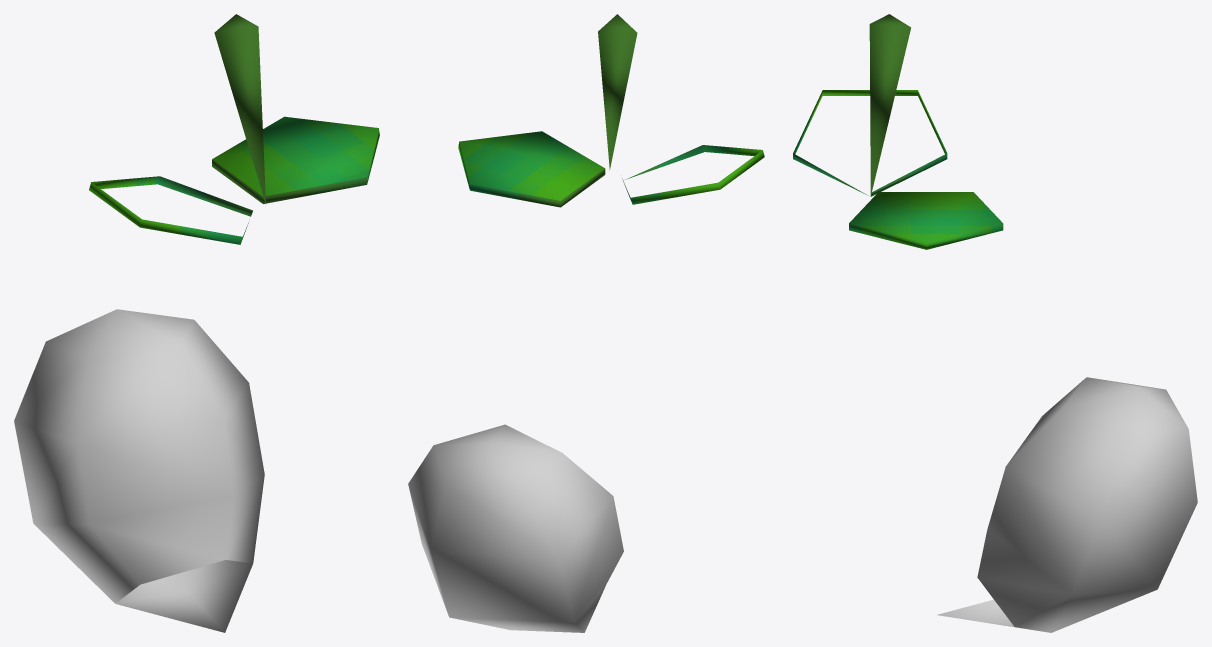
Rendered from fruit3.comp.obj.
3 renders of one model, left to right at view 1: azimuth 30°, elevation 25°; view 2: azimuth 150°, elevation 25°; view 3: azimuth 270°, elevation 25°, orthographic. The views are drawn at different scales.
Visible parts, largest first — view 1: fruit3.obj, fruit-stem.obj; view 2: fruit3.obj, fruit-stem.obj; view 3: fruit3.obj, fruit-stem.obj.
Part boxes in pixels (x1,y1,x2,y2): fruit3.obj: (14, 309, 264, 632); fruit-stem.obj: (89, 14, 379, 244); fruit3.obj: (408, 424, 623, 632); fruit-stem.obj: (458, 14, 764, 207); fruit3.obj: (937, 377, 1197, 632); fruit-stem.obj: (793, 14, 1003, 249).
Bounding box in the file's own units: 1.06 × 2.19 × 1.35.
